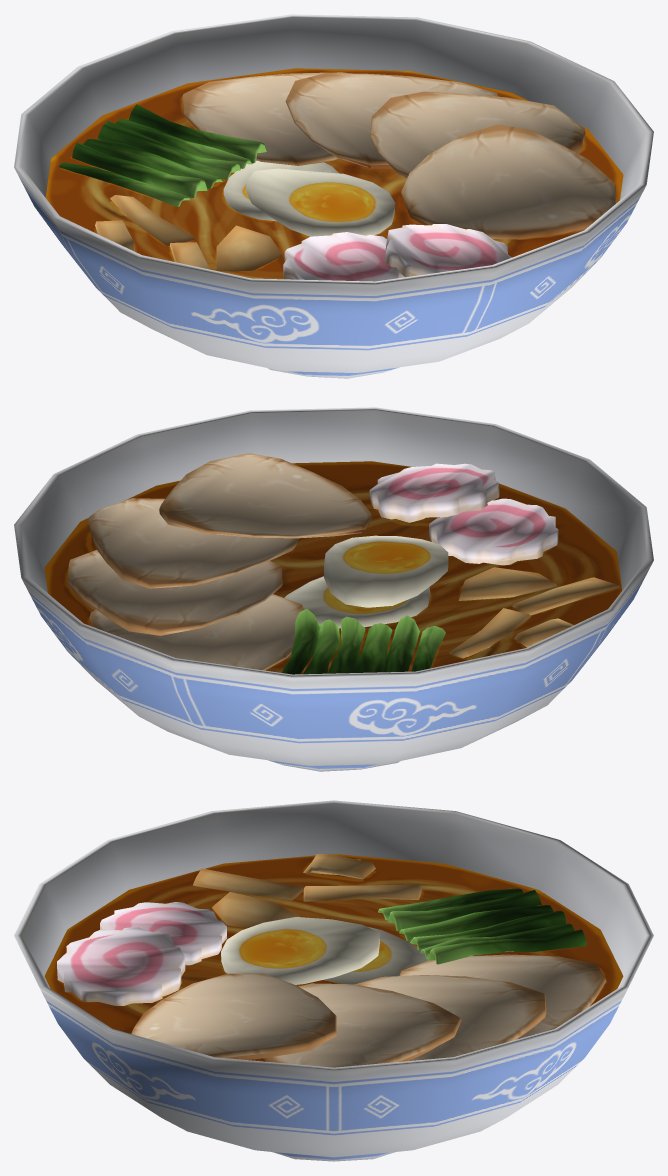
The model's file is ramen.obj.
The picture shows the model from 3 angles, top to bottom: view 1: azimuth 30°, elevation 25°; view 2: azimuth 150°, elevation 25°; view 3: azimuth 270°, elevation 25°; orthographic projection.
Parts seen in each view (by area): view 1: obj1.012, obj1.032, obj1.043, obj1.042, obj1.028, obj1.024, obj1.020, obj1.041, obj1.036, obj1.038, obj1.019, obj1.040 (+3 smaller); view 2: obj1.012, obj1.043, obj1.032, obj1.028, obj1.024, obj1.020, obj1.042, obj1.041, obj1.038, obj1.036, obj1.040, obj1.019 (+5 smaller); view 3: obj1.012, obj1.043, obj1.032, obj1.042, obj1.028, obj1.041, obj1.024, obj1.036, obj1.020, obj1.038, obj1.040, obj1.019 (+4 smaller).
Part boxes in pixels (x1,y1,x2,y2): obj1.012: (14, 14, 653, 378); obj1.032: (401, 124, 616, 239); obj1.043: (45, 68, 623, 279); obj1.042: (58, 104, 266, 206); obj1.028: (370, 91, 585, 176); obj1.024: (285, 73, 498, 165); obj1.020: (182, 72, 347, 165); obj1.041: (246, 168, 395, 236); obj1.036: (385, 224, 511, 274); obj1.038: (283, 232, 403, 281); obj1.019: (216, 225, 282, 271); obj1.040: (223, 160, 338, 221); obj1.012: (14, 407, 653, 771); obj1.043: (44, 461, 622, 674); obj1.032: (159, 453, 371, 537); obj1.028: (87, 498, 299, 587); obj1.024: (67, 550, 282, 633); obj1.020: (89, 594, 304, 670); obj1.042: (281, 609, 445, 674); obj1.041: (324, 535, 448, 607); obj1.038: (429, 498, 558, 560); obj1.036: (369, 463, 498, 514); obj1.040: (284, 576, 430, 628); obj1.019: (458, 567, 556, 600); obj1.012: (14, 800, 653, 1161); obj1.043: (44, 854, 623, 1061); obj1.032: (131, 973, 336, 1057); obj1.042: (378, 888, 586, 964); obj1.028: (263, 983, 461, 1067); obj1.041: (221, 917, 379, 984); obj1.024: (354, 975, 546, 1060); obj1.036: (57, 927, 184, 1003); obj1.020: (399, 954, 605, 1038); obj1.038: (100, 902, 226, 960); obj1.040: (323, 926, 428, 984); obj1.019: (212, 892, 301, 927).
Size of the model in its own units: 222 by 71.16 by 222.
Materials: 1 (1 with a texture image).
